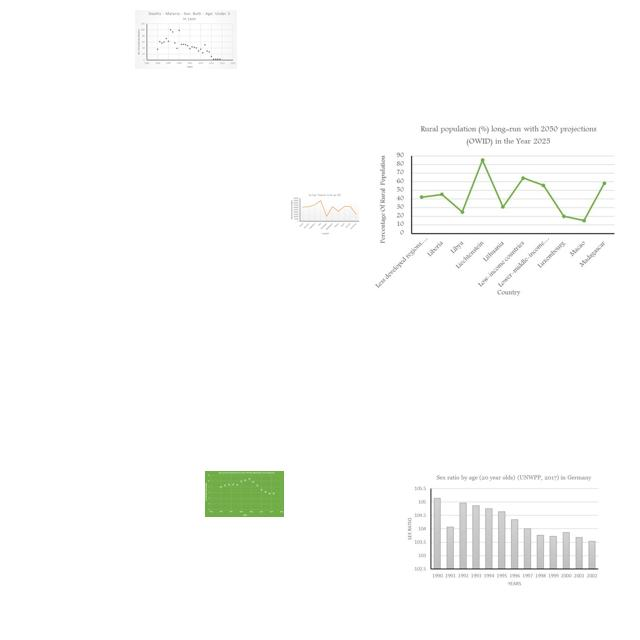Graph: (374, 121, 618, 298), (402, 473, 602, 591), (135, 10, 237, 69), (205, 471, 284, 517), (289, 193, 360, 235)
